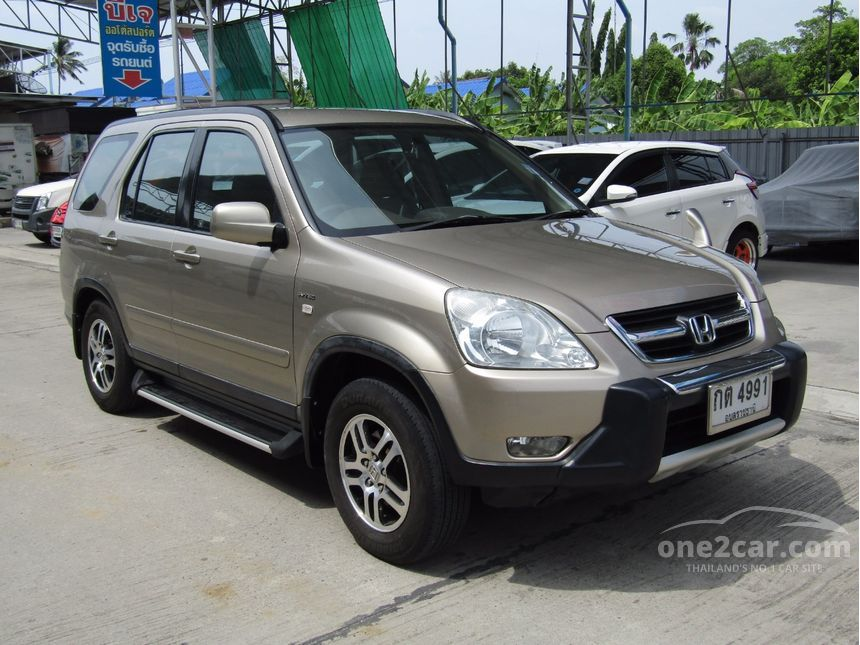pickup: (55, 102, 812, 565)
